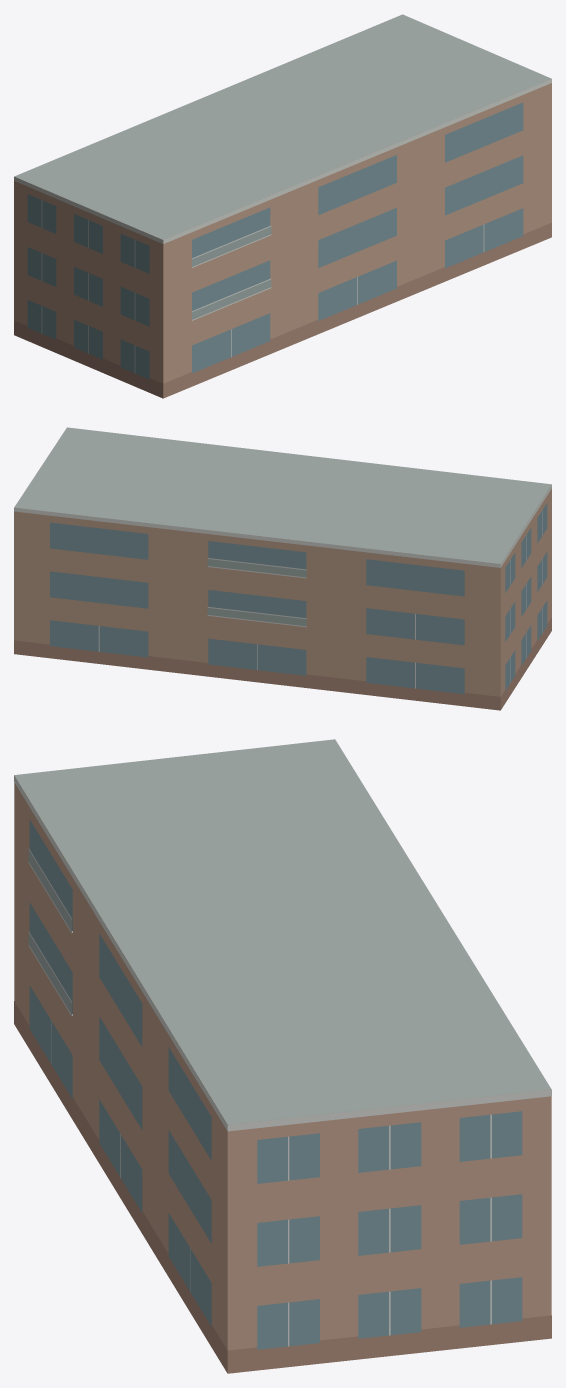
The model's file is survey-upis-32710398.glb.
3 views of the same model, one above another, from view 1: azimuth 30°, elevation 25°; view 2: azimuth 150°, elevation 25°; view 3: azimuth 270°, elevation 25° (orthographic). The views are drawn at different scales.
Visible parts, largest first — view 1: survey-upis-32710398.tmp; view 2: survey-upis-32710398.tmp; view 3: survey-upis-32710398.tmp.
Boxes of the visible parts, x1,y1,x2,y2 form: survey-upis-32710398.tmp: [14, 14, 551, 398]; survey-upis-32710398.tmp: [14, 427, 551, 710]; survey-upis-32710398.tmp: [14, 739, 551, 1373].
Size of the model in its own units: 30.42 by 9.15 by 17.93.
